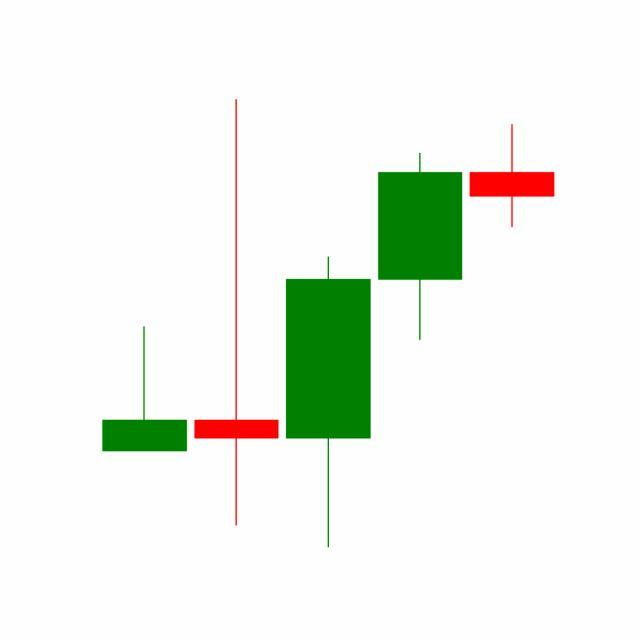Spinning Top: (466, 124, 559, 230)
